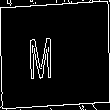M_N: (42, 29, 68, 81)
